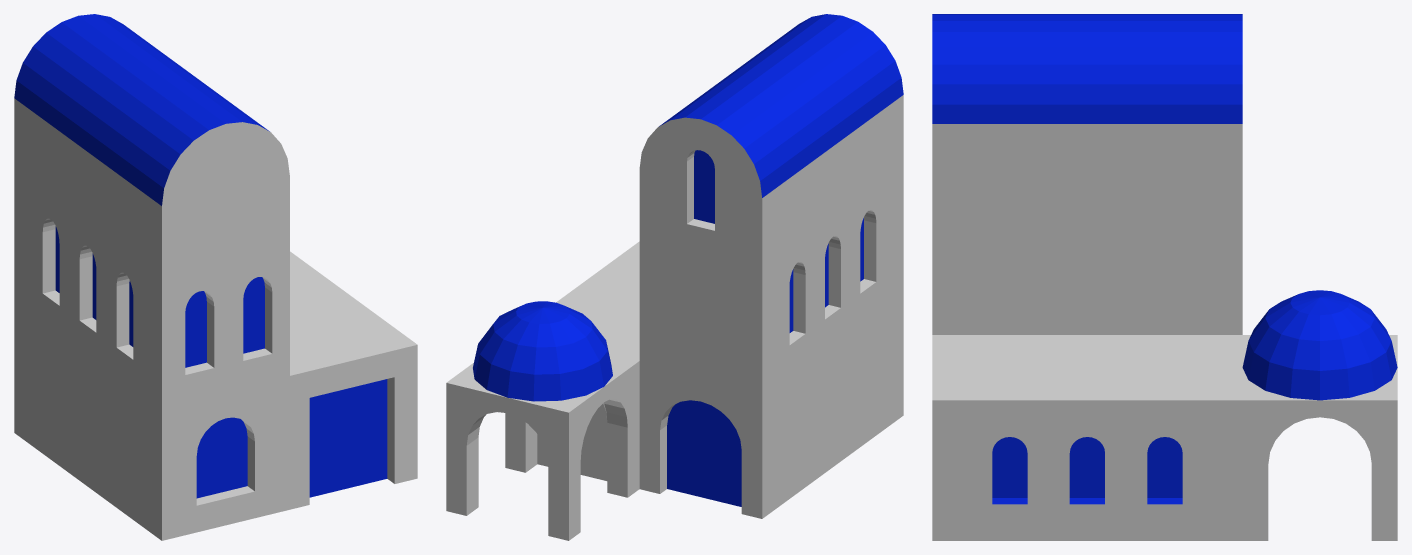
File: SM_Module5_001.fbx
The picture shows the model from 3 angles, left to right: view 1: azimuth 30°, elevation 25°; view 2: azimuth 150°, elevation 25°; view 3: azimuth 270°, elevation 25°; orthographic projection. The views are drawn at different scales.
Parts seen in each view (by area): view 1: 1Df1WF3WS1DB.001, 1WB.001, 2WF3WS.001, Door.063, Window1.015, Window3.118, Window3.119, Window3.117; view 2: 1WB.001, 1Df1WF3WS1DB.001, 2WF3WS.001, Arche+Dome.003, Sphere.071, Door2.039, Window3.116, Window3.117; view 3: 1Df1WF3WS1DB.001, 1WB.001, 2WF3WS.001, Sphere.071, Arche+Dome.003, Window3.115.
Boxes of the visible parts, x1,y1,x2,y2 form: 1Df1WF3WS1DB.001: (14, 251, 417, 540); 1WB.001: (14, 14, 289, 273); 2WF3WS.001: (14, 165, 289, 406); Door.063: (309, 379, 387, 497); Window1.015: (196, 417, 247, 498); Window3.118: (185, 291, 206, 367); Window3.119: (243, 277, 264, 353); Window3.117: (55, 226, 133, 346); 1WB.001: (639, 14, 903, 262); 1Df1WF3WS1DB.001: (537, 241, 903, 518); 2WF3WS.001: (639, 159, 903, 390); Arche+Dome.003: (446, 353, 639, 540); Sphere.071: (473, 301, 612, 401); Door2.039: (667, 400, 741, 506); Window3.116: (694, 150, 714, 223); Window3.117: (789, 218, 863, 332); 1Df1WF3WS1DB.001: (932, 335, 1242, 540); 1WB.001: (932, 14, 1242, 194); 2WF3WS.001: (932, 194, 1242, 334); Sphere.071: (1242, 290, 1397, 400); Arche+Dome.003: (1242, 335, 1397, 540); Window3.115: (992, 437, 1182, 497).
Size of the model in its own units: 500 by 750 by 750.
